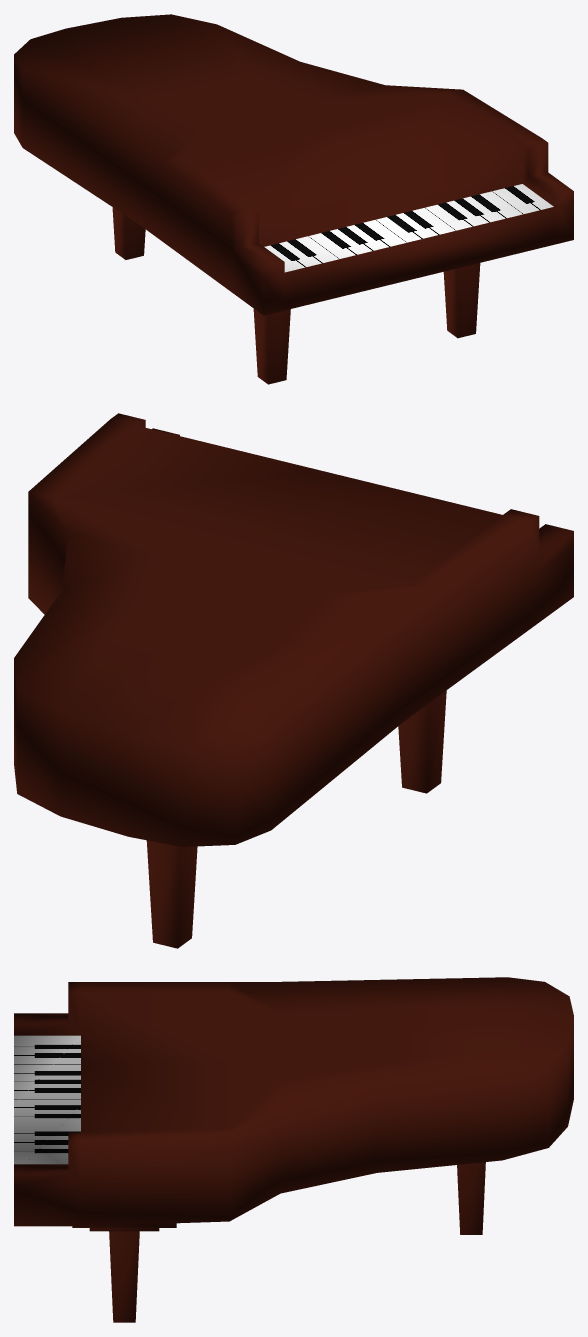
The model's file is Piano.fbx.
The picture shows the model from 3 angles, top to bottom: view 1: azimuth 30°, elevation 25°; view 2: azimuth 150°, elevation 25°; view 3: azimuth 270°, elevation 25°; orthographic projection. The views are drawn at different scales.
Parts seen in each view (by area): view 1: Cuerpo, Pata.002, Pata.001, Pata.003; view 2: Cuerpo, Pata.003, Pata.002; view 3: Cuerpo, Pata.001, Pata.003.
Boxes of the visible parts, bbox=[...] form: Cuerpo: bbox=[14, 14, 573, 315]; Pata.002: bbox=[253, 309, 290, 384]; Pata.001: bbox=[443, 263, 480, 338]; Pata.003: bbox=[112, 207, 145, 259]; Cuerpo: bbox=[14, 413, 573, 846]; Pata.003: bbox=[146, 840, 197, 948]; Pata.002: bbox=[398, 690, 446, 793]; Cuerpo: bbox=[14, 977, 573, 1226]; Pata.001: bbox=[72, 1223, 176, 1322]; Pata.003: bbox=[457, 1162, 485, 1234].
Size of the model in its own units: 154 by 89.61 by 220.
